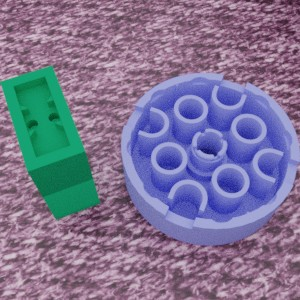lego: (121, 72, 299, 245), (0, 65, 100, 219)
